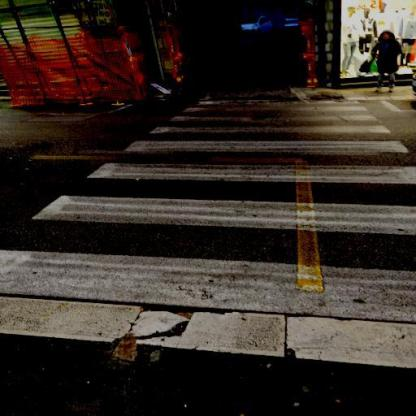crosswalk: (80, 135, 415, 192)
